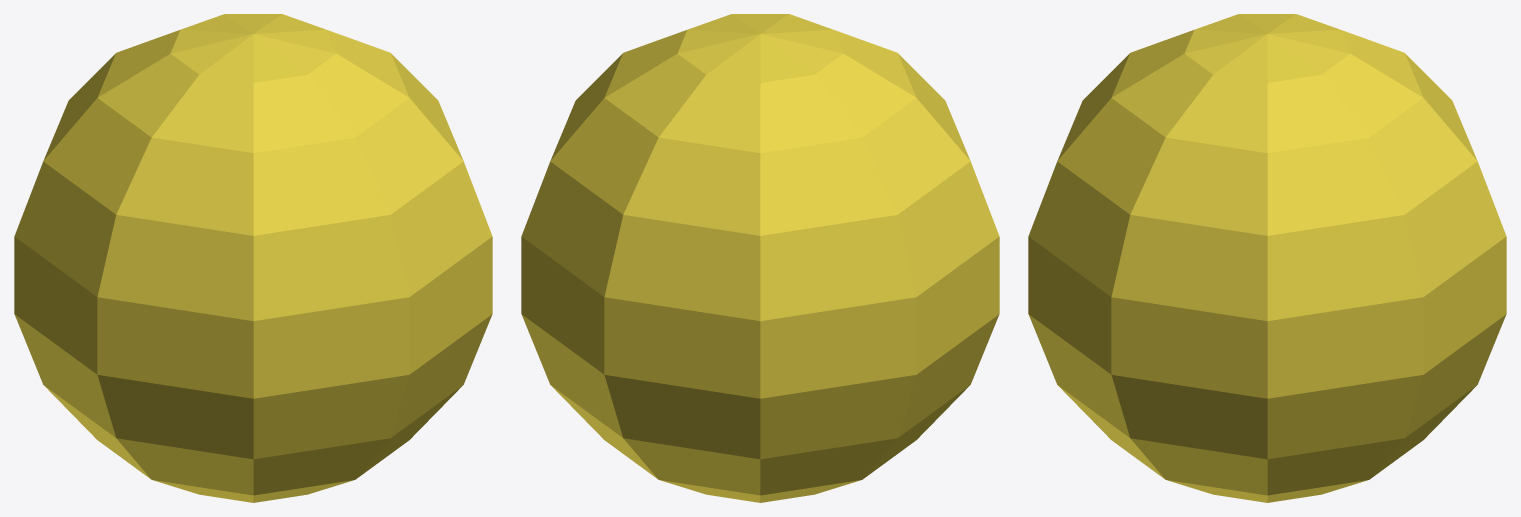
The model's file is Sun.fbx.
3 views of the same model, side by side, from view 1: azimuth 30°, elevation 25°; view 2: azimuth 150°, elevation 25°; view 3: azimuth 270°, elevation 25° (orthographic).
Visible parts, largest first — view 1: pSphere1; view 2: pSphere1; view 3: pSphere1.
Boxes of the visible parts, x1,y1,x2,y2 form: pSphere1: [14, 14, 492, 502]; pSphere1: [521, 14, 999, 502]; pSphere1: [1028, 14, 1506, 502].
Size of the model in its own units: 0.7816 by 0.8183 by 0.7937.
